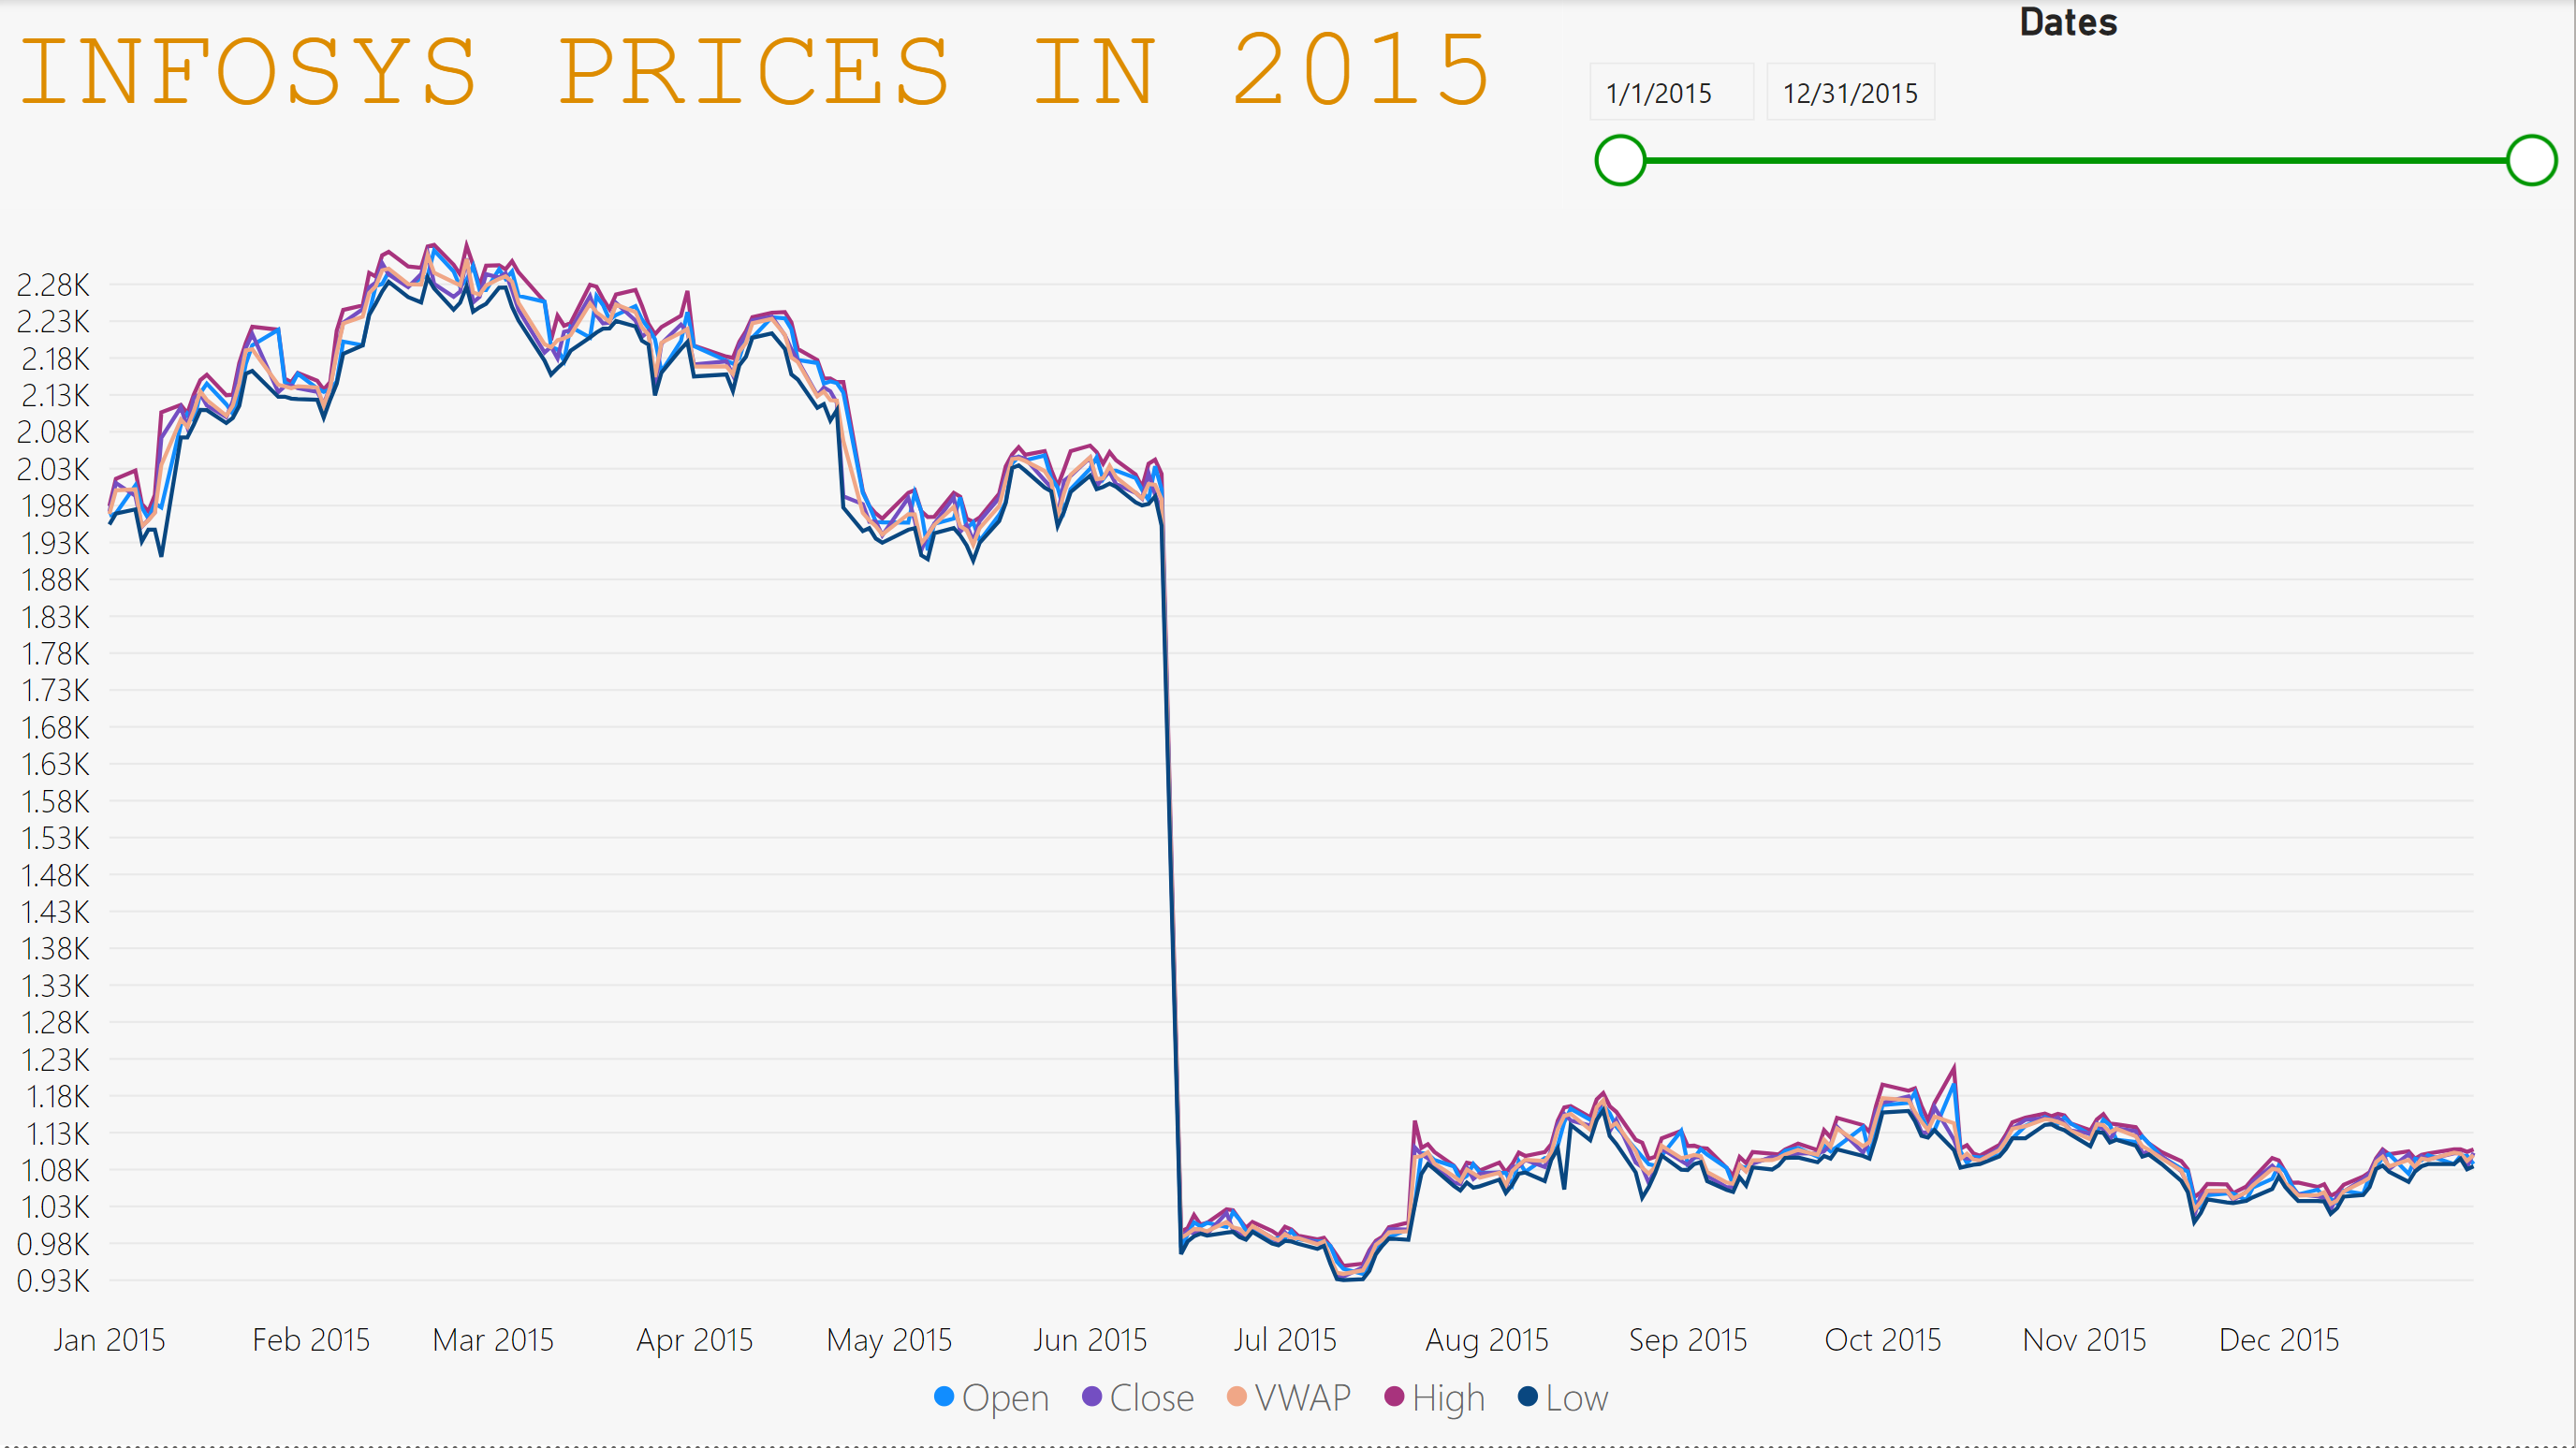

Layout of this report page (visuals, bound fields, positions):
{"tool":"powerbi","page":{"name":"INFY","canvas":[1280,720],"ordinal":0},"visuals":[{"type":"powerKPI462CE5C2666F4EC8A8BDD7E5587320A3","title":"INFY Open and Close Prices","fields":{"Values":["Sum(infy_stock.Open)","Sum(infy_stock.Close)","Sum(infy_stock.VWAP)","Sum(infy_stock.High)","Sum(infy_stock.Low)"],"Axis":["Calendar.Date"]},"box":[0,104.6,1280,615.2],"z":0},{"type":"slicer","title":"Dates","fields":{"Values":["Calendar.Date"]},"box":[777.3,0,502.7,104.7],"z":1000},{"type":"textbox","box":[0,0,777.3,104.7],"z":2000}]}

Visuals, with their boxes in screenshot pixels (x1, y1, x2, y2), scaled from the page's 1280x720 canvas onto the 2576x1448 screenshot:
"INFY Open and Close Prices" powerKPI462CE5C2666F4EC8A8BDD7E5587320A3: 0,211,2575,1447
"Dates" slicer: 1564,0,2575,211
textbox: 0,0,1564,211
